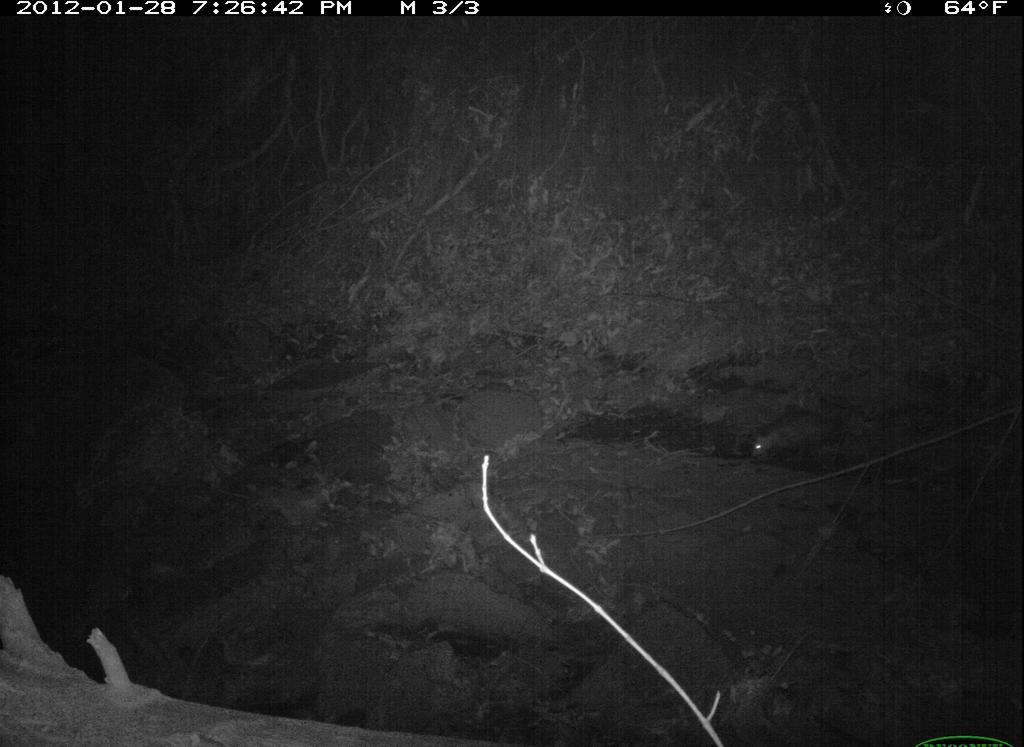opossum: (734, 401, 871, 468)
